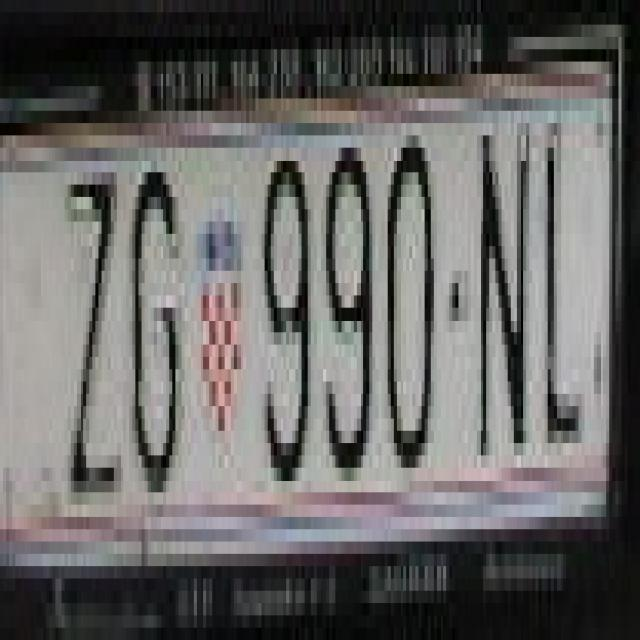0: (385, 123, 440, 480)
9: (320, 148, 372, 480), (262, 135, 310, 492)
G: (129, 160, 182, 505)
L: (535, 111, 594, 455)
N: (474, 111, 532, 455)
Z: (65, 160, 123, 505)
